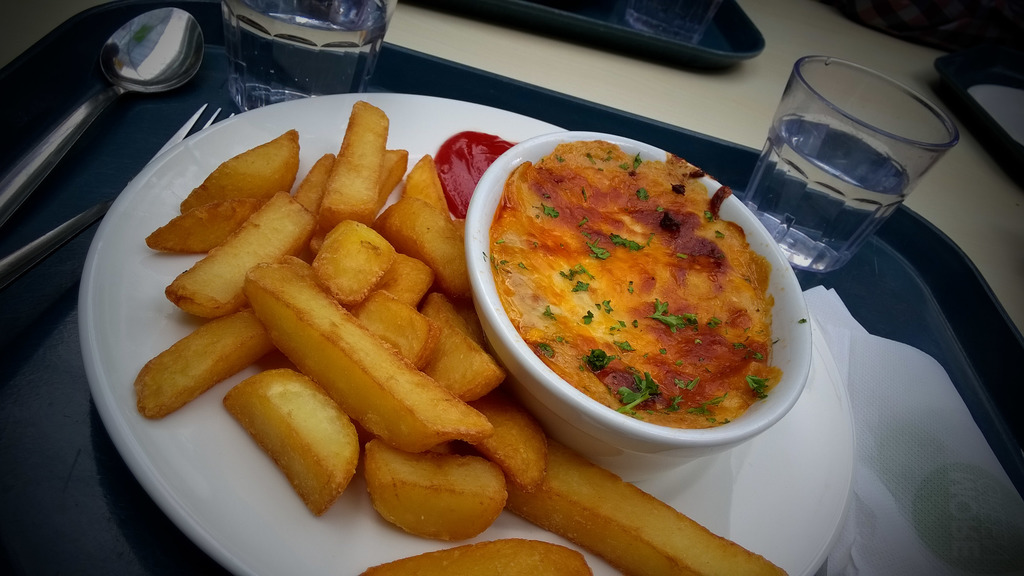French fries: (275, 108, 414, 240)
